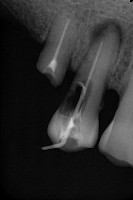Furcation Involvement: (88, 16, 128, 54)
